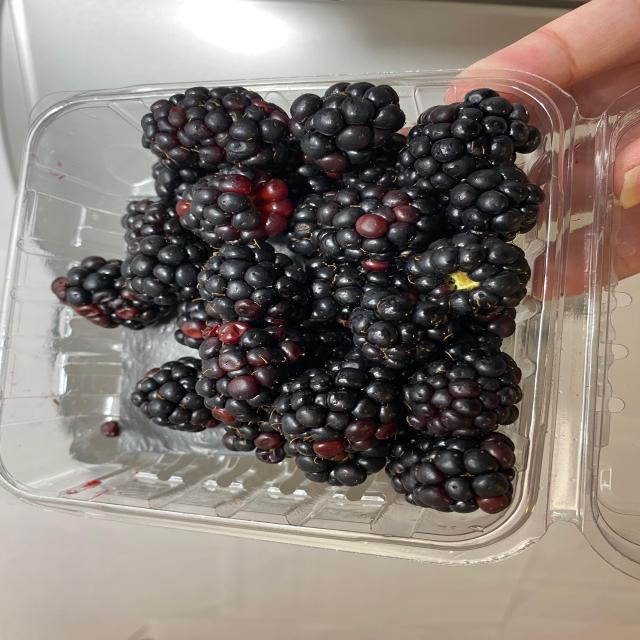blackberries: (64, 85, 532, 516)
